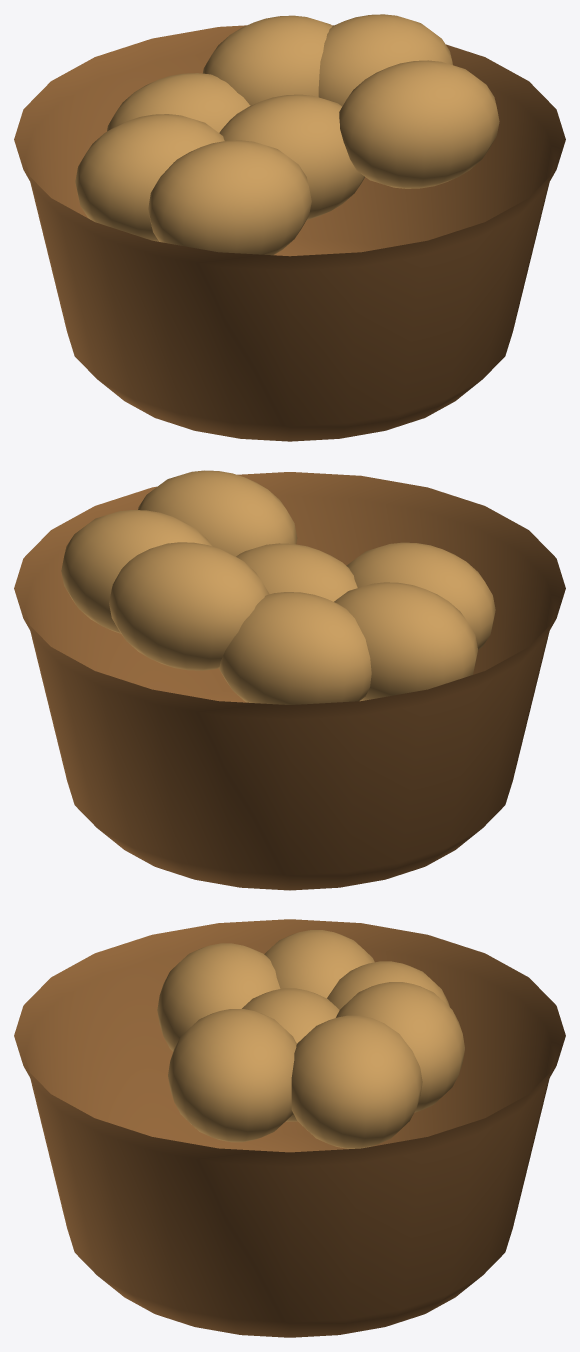
File: batatas.glb
3 views of the same model, one above another, from view 1: azimuth 30°, elevation 25°; view 2: azimuth 150°, elevation 25°; view 3: azimuth 270°, elevation 25° (orthographic).
Visible parts, largest first — view 1: batatas; view 2: batatas; view 3: batatas.
Boxes of the visible parts, x1,y1,x2,y2 form: batatas: (14, 14, 565, 441); batatas: (14, 470, 565, 890); batatas: (14, 919, 565, 1337).
Bounding box in the file's own units: 1.04 × 0.597 × 1.04.
